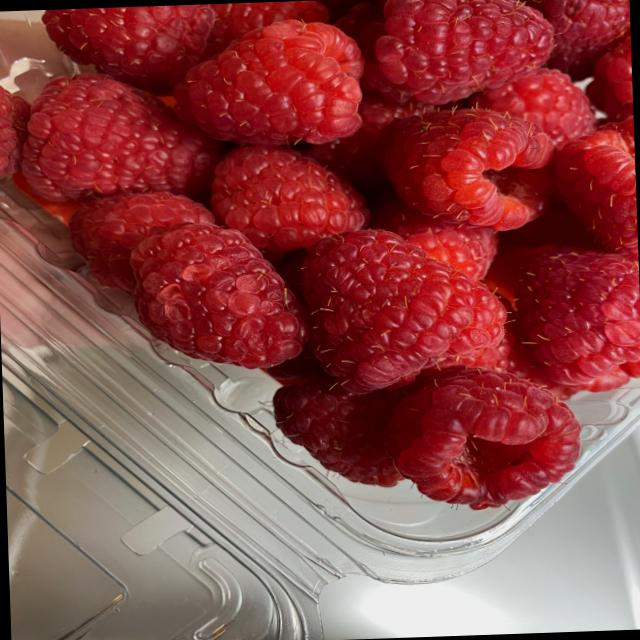raspberries: (41, 0, 625, 520)
